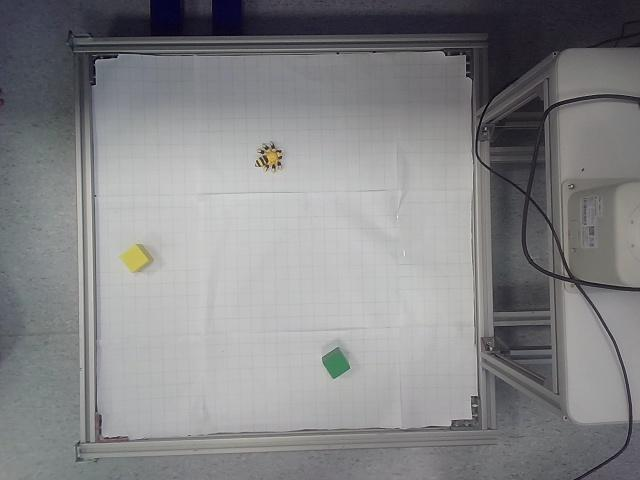frelon: (255, 141, 283, 174)
